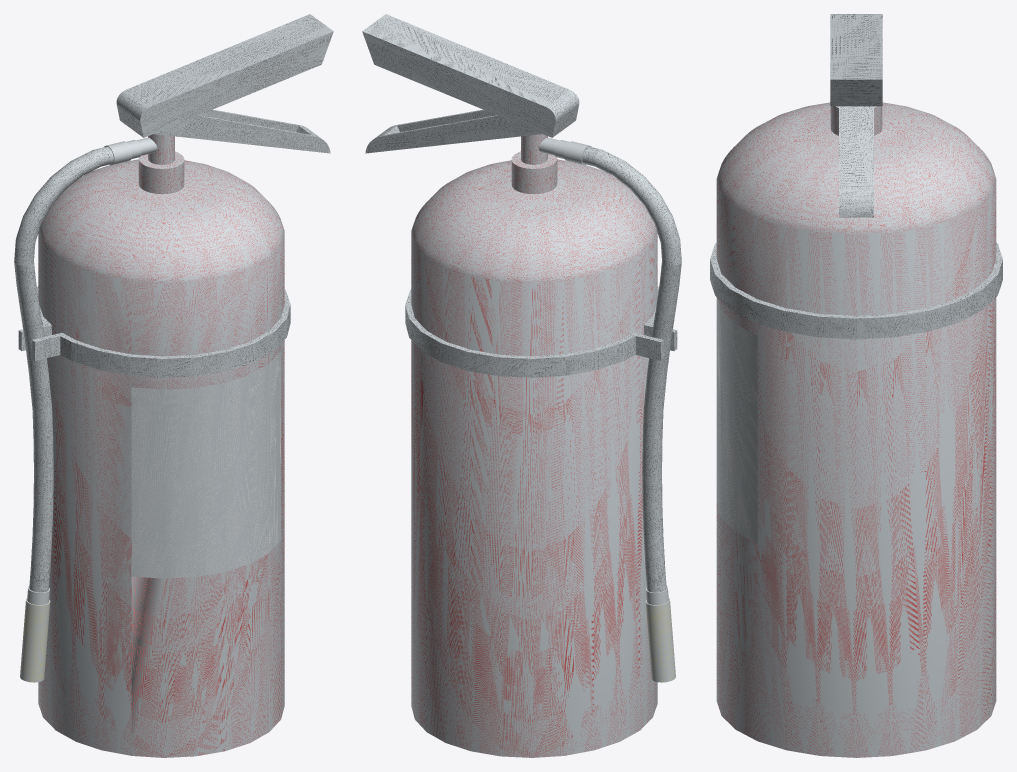
The model's file is Extintor.fbx.
3 renders of one model, left to right at view 1: azimuth 30°, elevation 25°; view 2: azimuth 150°, elevation 25°; view 3: azimuth 270°, elevation 25°, orthographic. The views are drawn at different scales.
Parts seen in each view (by area): view 1: instance_5; view 2: instance_5; view 3: instance_5.
Boxes of the visible parts, x1,y1,x2,y2 form: instance_5: [14, 14, 333, 757]; instance_5: [362, 14, 681, 757]; instance_5: [710, 14, 1002, 757].
Bounding box in the file's own units: 40 × 80 × 30.
